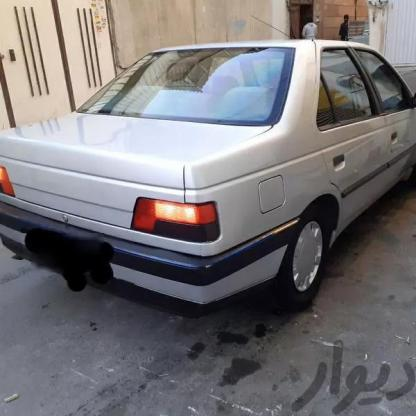Car: (0, 32, 416, 338)
